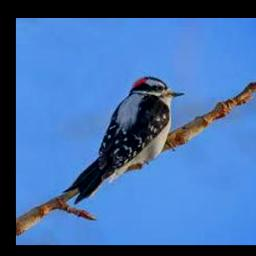Woodpecker: (64, 76, 185, 204)
